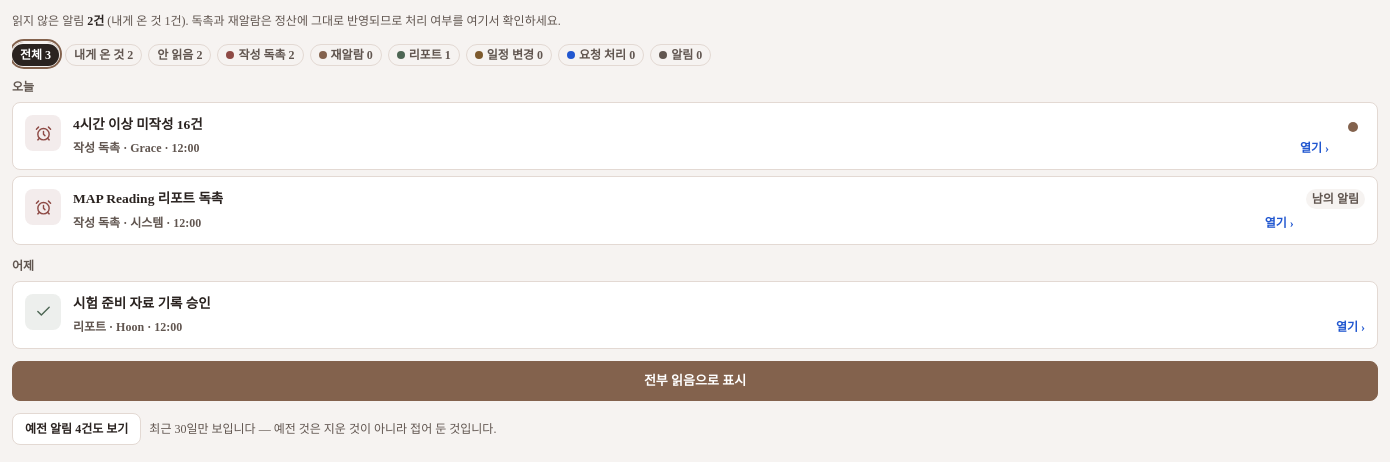
Scenario: 알림 칩은 공용 칩 줄의 진한 채움으로 눌린다
Expected: the text "전체 3" is shown, 12,44 -> 59,66
Click the button "안 읽음 2" at (180, 54), box 148,42 -> 211,66
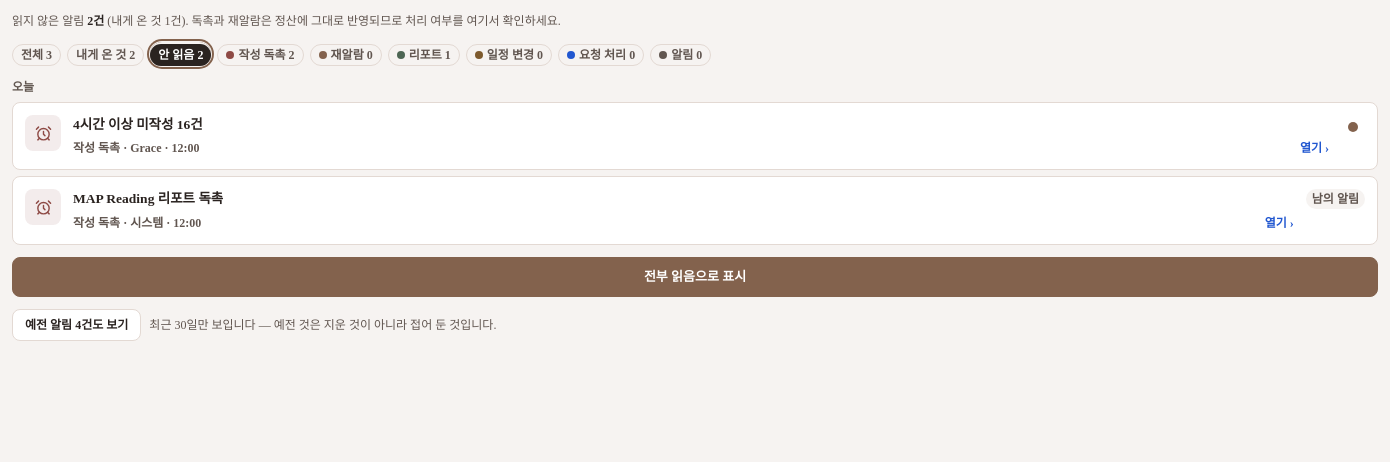
Result: the text "시험 준비 자료 기록 승인" is gone
